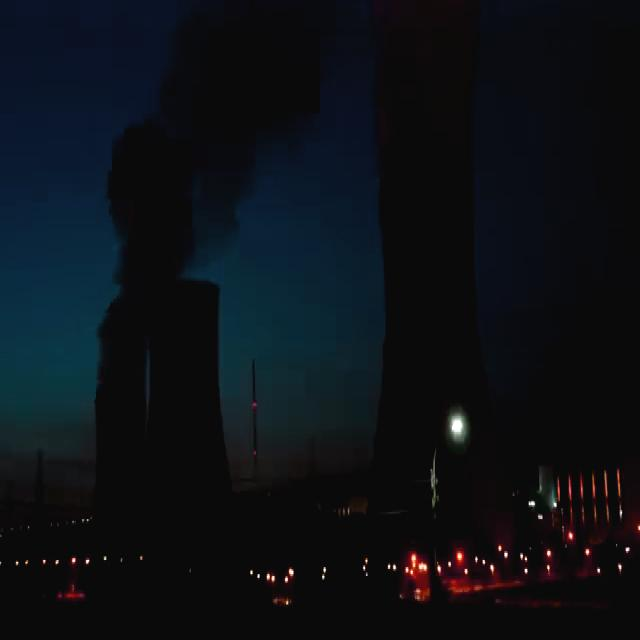smoke: (101, 30, 305, 370)
